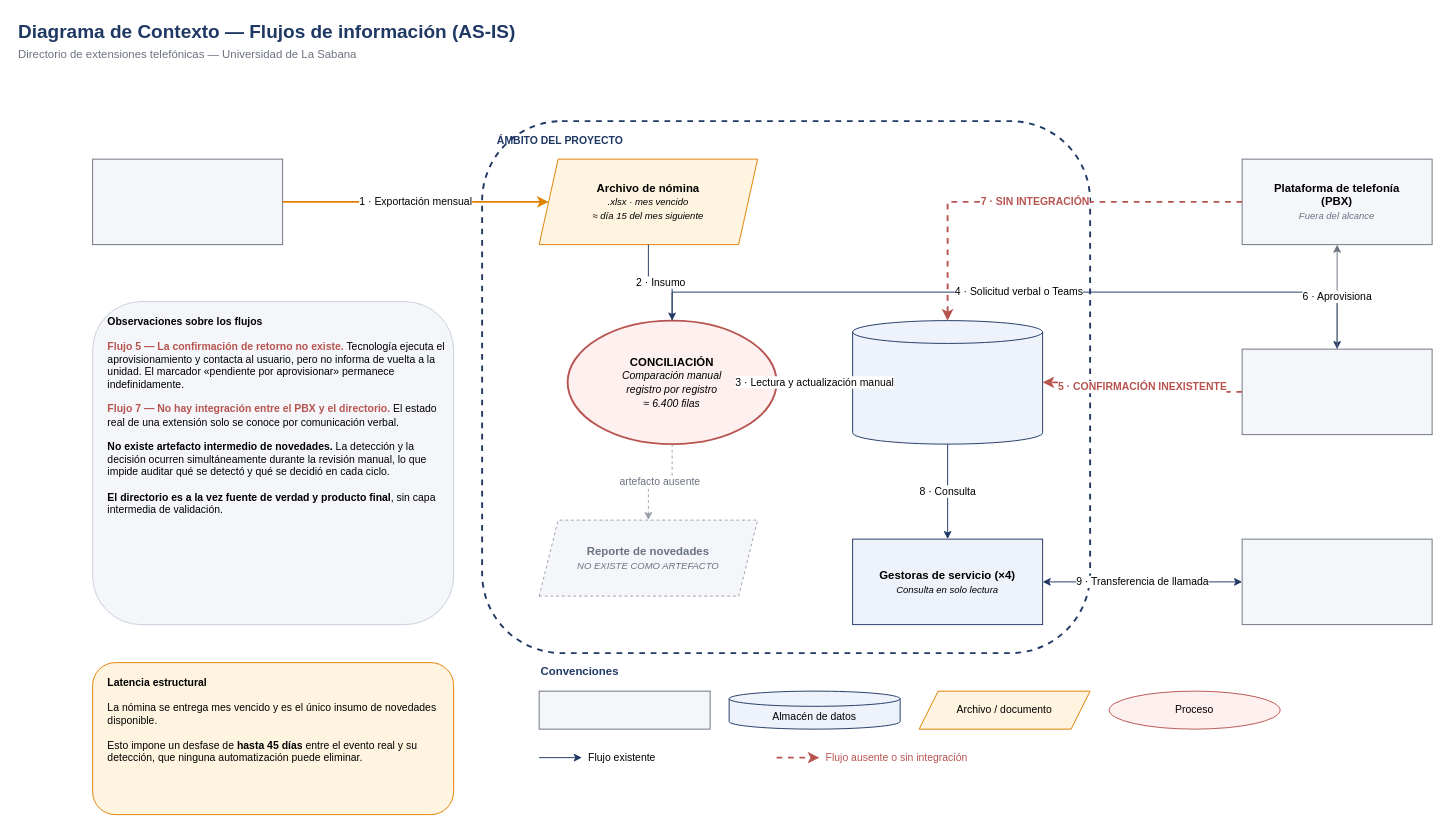
Some shapes in this 1449 by 831 pixel diagram are drawn without their labels. The centre of each missing label's shape, as x and y in pixels:
"Dirección de Tecnología Analista de aprovisionamiento" belongs at [1336,391].
"Directorio de extensiones .xlsx en OneDrive personal ≈ 6.400 registros" belongs at [947,382].
"Entidad externa / actor" belongs at [624,709].
"Sistema de Desarrollo Humano Fuera del alcance" belongs at [187,201].
"Usuario final Estudiante · aspirante egresado · visitante" belongs at [1336,581].
